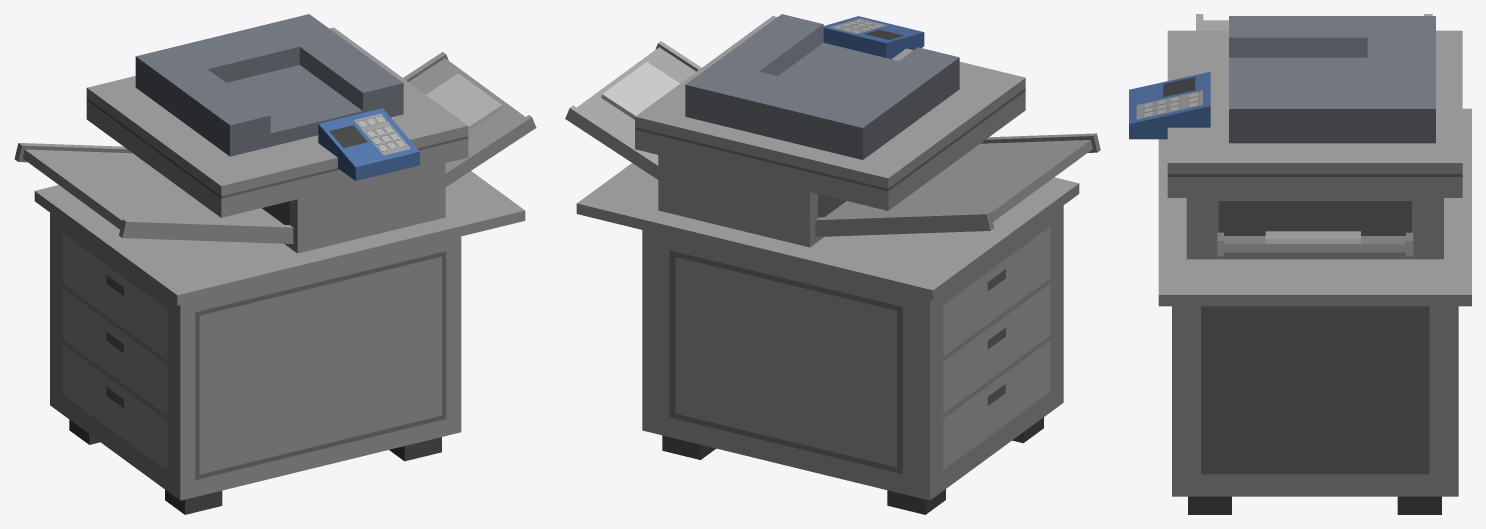
The model's file is SO_Photocopier.fbx.
3 renders of one model, left to right at view 1: azimuth 30°, elevation 25°; view 2: azimuth 150°, elevation 25°; view 3: azimuth 270°, elevation 25°, orthographic. The views are drawn at different scales.
Parts seen in each view (by area): view 1: SO_Photocopier; view 2: SO_Photocopier; view 3: SO_Photocopier.
Boxes of the visible parts, bbox=[...] form: SO_Photocopier: bbox=[14, 14, 536, 514]; SO_Photocopier: bbox=[565, 14, 1100, 514]; SO_Photocopier: bbox=[1129, 14, 1471, 514].
Bounding box in the file's own units: 2.93 × 2.38 × 1.87.
